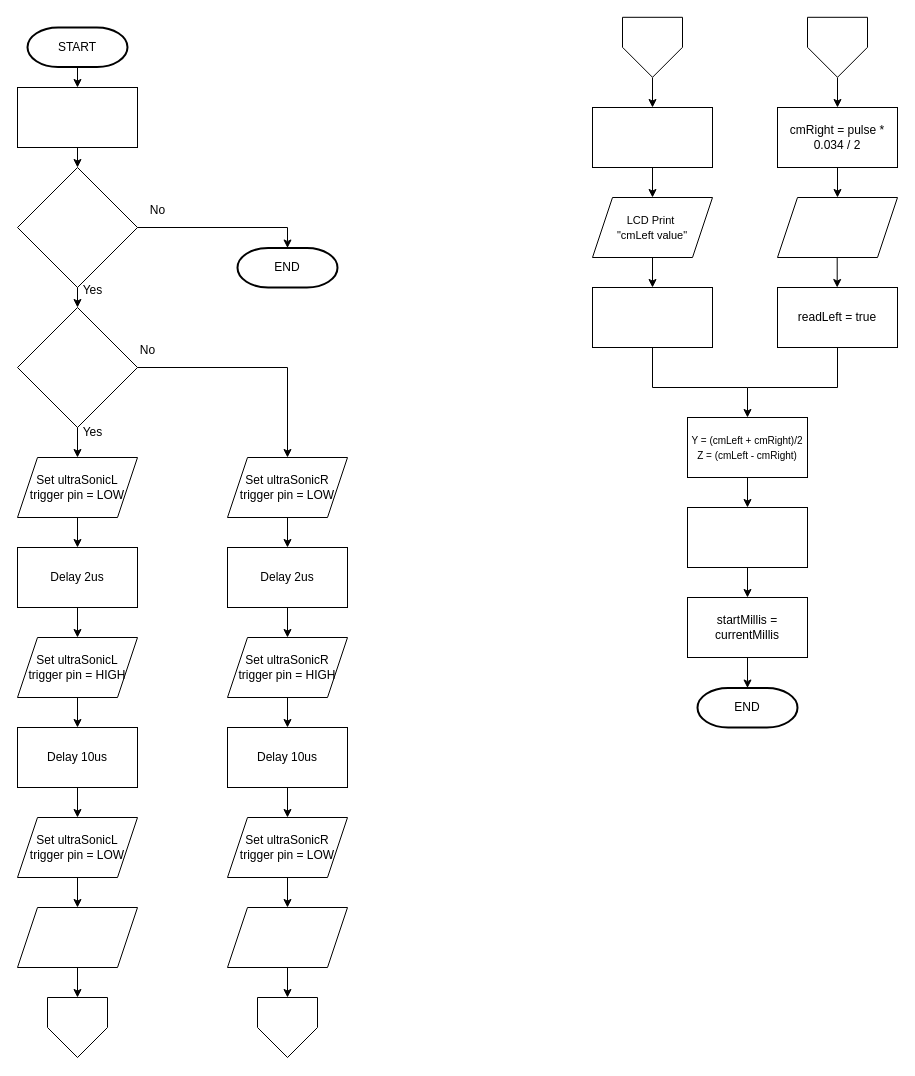
This 915x1076 diagram has some shape labels left out. Here are the shapes that lost their labels. From the top down, the centre of each, then its label:
pixel 77 117: currentMillis = millis()
pixel 652 137: cmLeft = pulse * 0.034 / 2
pixel 77 227: Has 50 ms passed? (currentMillis - startMillis >= 50)
pixel 837 227: LCD Print " cmRight value"
pixel 652 317: readLeft = false
pixel 77 367: readLeft is true?
pixel 747 537: return (Y,Z)
pixel 77 937: pulse = pulseIn(EchoL,HIGH)
pixel 287 937: pulse = pulseIn(EchoR,HIGH)
